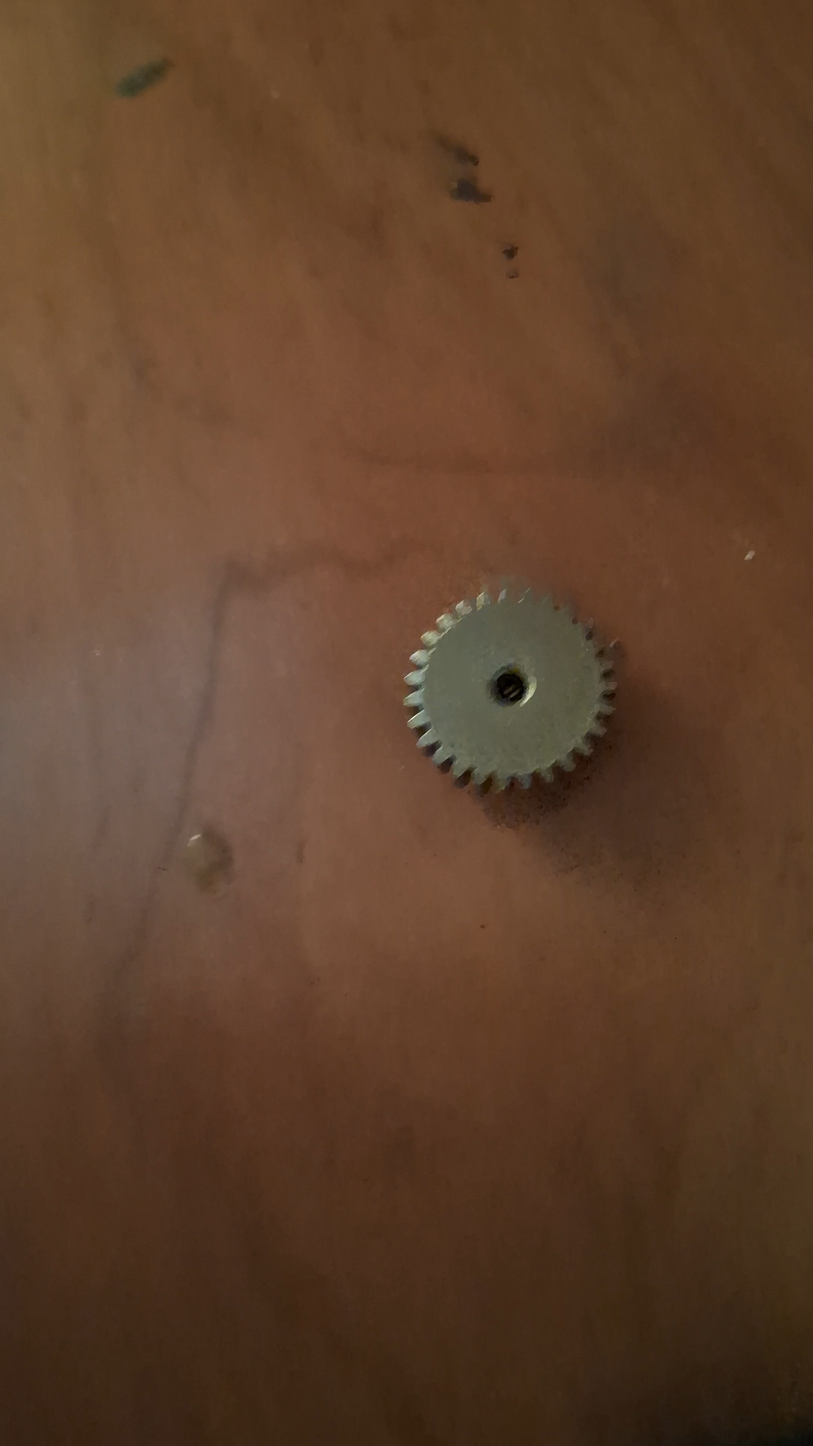spur gear: (405, 589, 615, 789)
